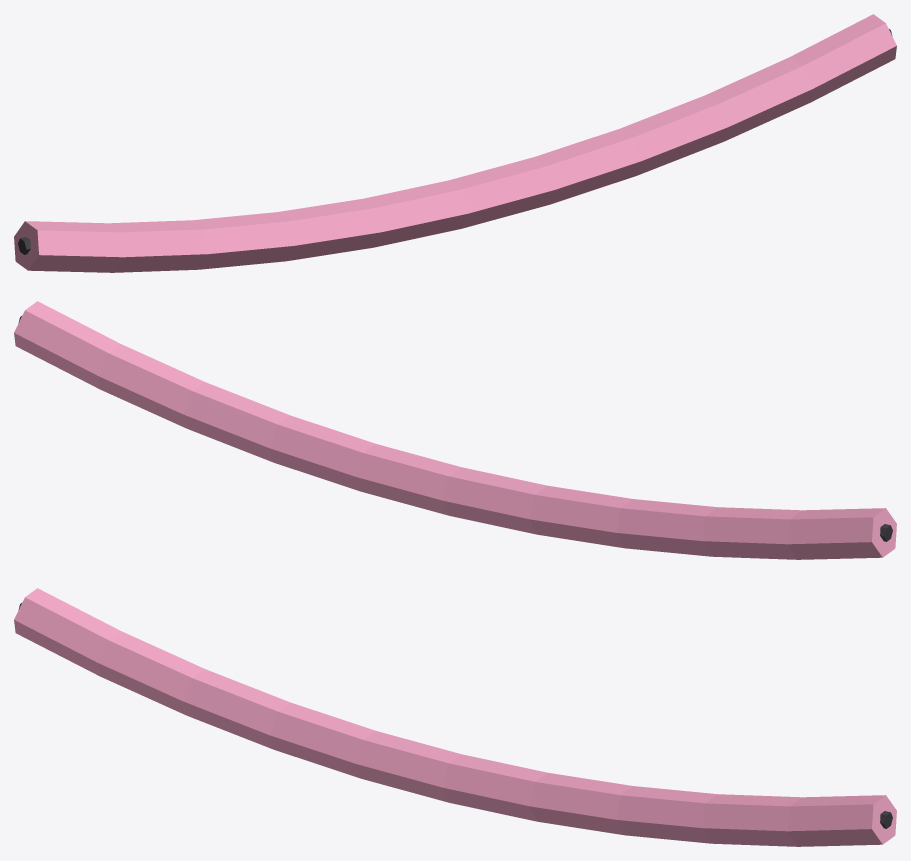
File: CR_Churro.fbx
The picture shows the model from 3 angles, top to bottom: view 1: azimuth 30°, elevation 25°; view 2: azimuth 150°, elevation 25°; view 3: azimuth 330°, elevation 25°; orthographic projection.
Parts seen in each view (by area): view 1: CR_Churro; view 2: CR_Churro; view 3: CR_Churro.
Boxes of the visible parts, x1,y1,x2,y2 form: CR_Churro: (14, 14, 896, 272); CR_Churro: (14, 301, 896, 559); CR_Churro: (14, 588, 896, 846).
Bounding box in the file's own units: 1.4 × 0.157 × 0.07.
